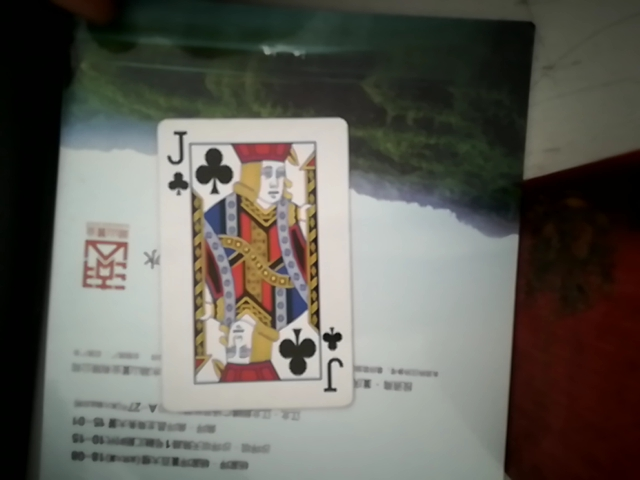mh j: (176, 111, 354, 412)
